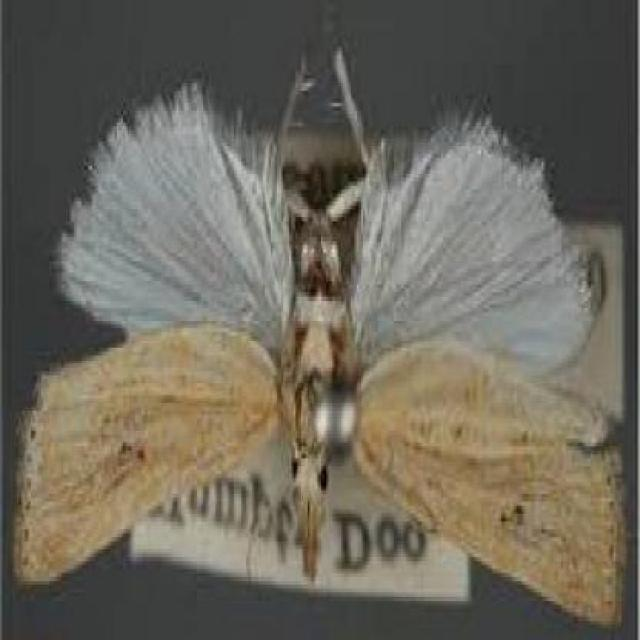stem-borer: (10, 30, 628, 635)
